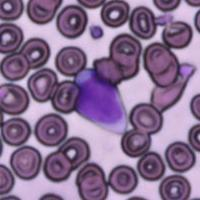L: (72, 66, 128, 134)
